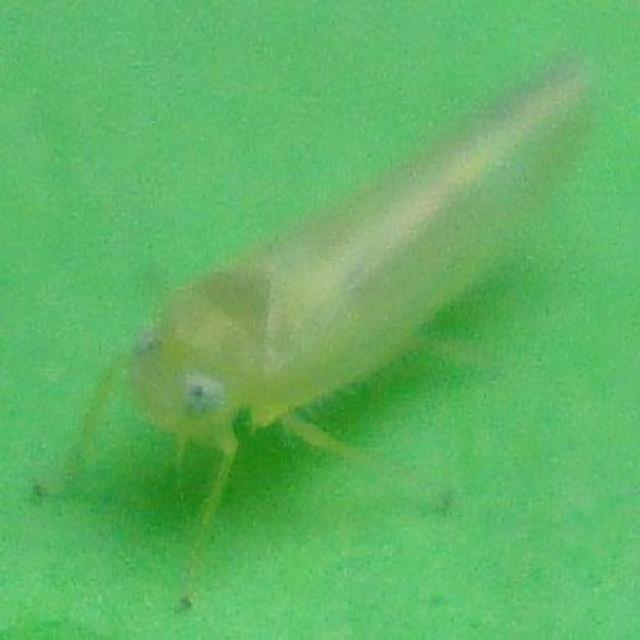green-leafhopper: (64, 54, 599, 584)
